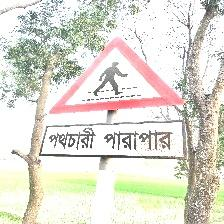Pedestrian-crossing: (40, 37, 187, 160)
